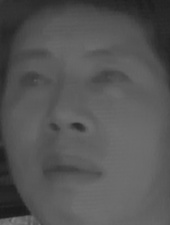eye: (91, 64, 132, 92), (16, 69, 54, 92)
mouth: (38, 149, 104, 189)
